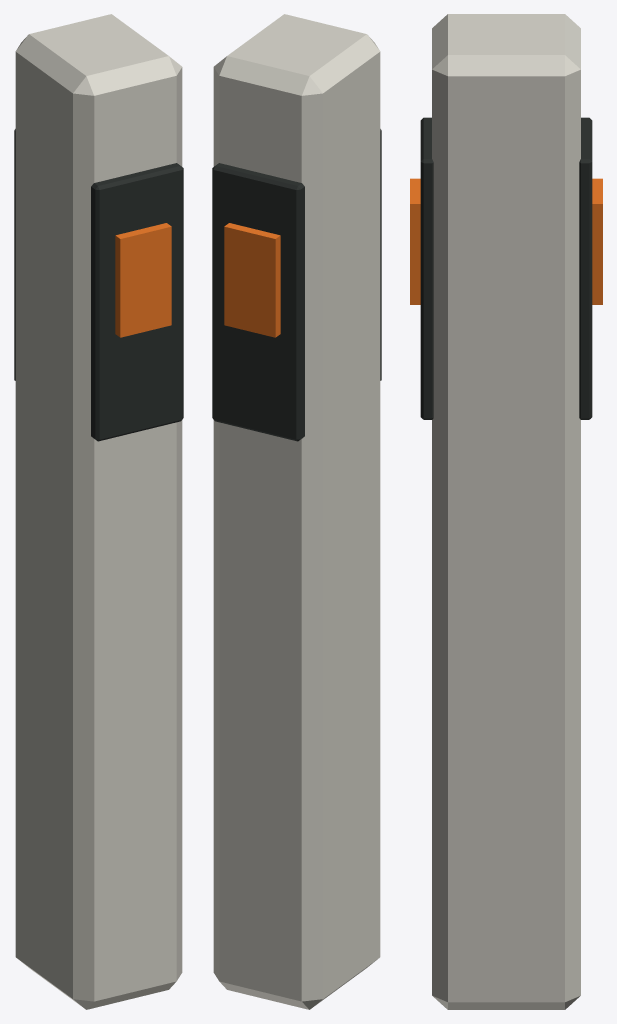
File: Delineator_A_LOD1.fbx
The picture shows the model from 3 angles, left to right: view 1: azimuth 30°, elevation 25°; view 2: azimuth 150°, elevation 25°; view 3: azimuth 270°, elevation 25°; orthographic projection. The views are drawn at different scales.
Parts seen in each view (by area): view 1: Delineator_A_LOD1; view 2: Delineator_A_LOD1; view 3: Delineator_A_LOD1.
Part boxes in pixels (left/top/right/bottom): Delineator_A_LOD1: left=14, top=14, right=183, bottom=1009; Delineator_A_LOD1: left=212, top=14, right=381, bottom=1009; Delineator_A_LOD1: left=410, top=14, right=602, bottom=1009.
Bounding box in the file's own units: 0.13 × 1.06 × 0.194.
